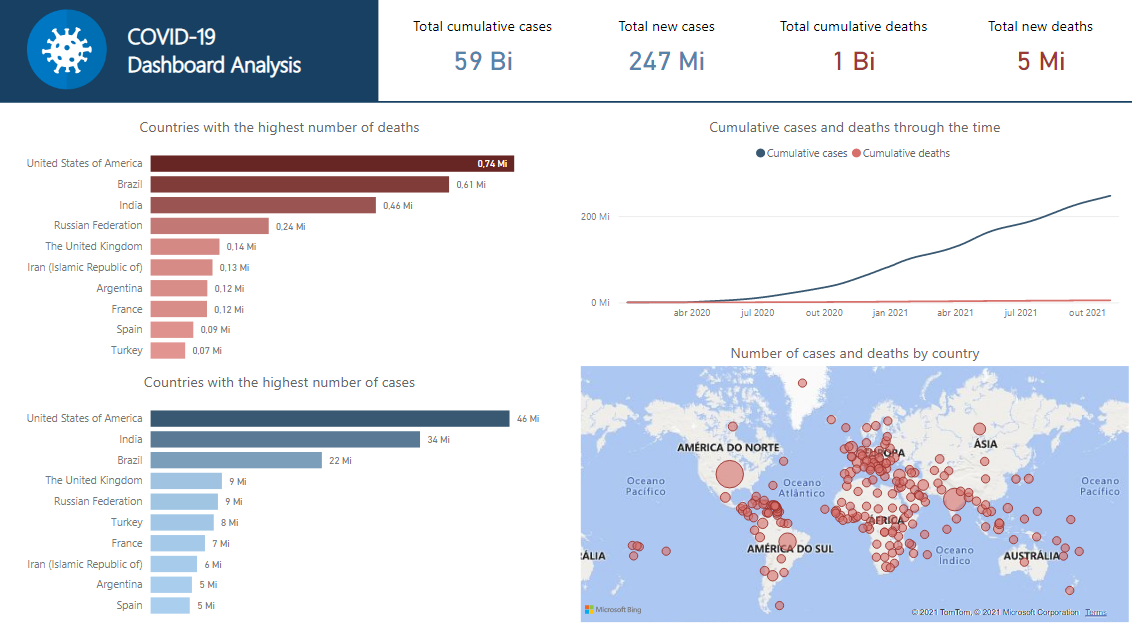

Layout of this report page (visuals, bound fields, positions):
{"tool":"powerbi","page":{"name":"Home","canvas":[1280,720],"ordinal":0},"visuals":[{"type":"shape","box":[0,98.9,1280,36.4],"z":0},{"type":"shape","box":[0,0,429.3,117.1],"z":1000},{"type":"map","title":"Number of cases and deaths by country","fields":{"Category":["WHO-COVID-19-global-data.Country"],"Size":["Sum(WHO-COVID-19-global-data.New_cases)"]},"box":[651.7,388.9,628.3,320],"z":2000},{"type":"lineChart","title":"Cumulative cases and deaths through the time","fields":{"Category":["WHO-COVID-19-global-data.Date_reported"],"Y":["Sum(WHO-COVID-19-global-data.Cumulative_cases)","Sum(WHO-COVID-19-global-data.Cumulative_deaths)"]},"box":[651.7,134,628.3,238],"z":3000},{"type":"barChart","title":"Countries with the highest number of cases","fields":{"Category":["WHO-COVID-19-global-data.Country"],"Y":["Medidas.Total de novos casos"]},"box":[14.3,421.5,604.9,287.5],"z":4000},{"type":"barChart","title":"Countries with the highest number of deaths","fields":{"Category":["WHO-COVID-19-global-data.Country"],"Y":["Medidas.Total de novas mortes"]},"box":[14.3,134,604.9,287.5],"z":5000},{"type":"card","title":"Total new cases","fields":{"Values":["Medidas.Total de novos casos"]},"box":[665.1,20.8,176.9,75.4],"z":6000},{"type":"card","title":"Total new deaths","fields":{"Values":["Medidas.Total de novas mortes"]},"box":[1086.2,20.8,176.9,75.4],"z":7000},{"type":"card","title":"Total cumulative cases","fields":{"Values":["Medidas.Total de casos acumulados"]},"box":[441,20.8,210.7,75.4],"z":8000},{"type":"card","title":"Total cumulative deaths","fields":{"Values":["Medidas.Total de mortes acumuladas"]},"box":[855.5,20.8,217.2,75.4],"z":9000},{"type":"image","box":[14.3,7.8,126.2,100.2],"z":10000},{"type":"textbox","box":[140.5,20.8,274.5,76.7],"z":11000}]}

Visuals, with their boxes in screenshot pixels (x1, y1, x2, y2), scaled from the page's 1280x720 canvas onto the 1132x627 screenshot:
shape: detection(0, 86, 1131, 118)
shape: detection(0, 0, 380, 102)
"Number of cases and deaths by country" map: detection(576, 339, 1131, 617)
"Cumulative cases and deaths through the time" lineChart: detection(576, 117, 1131, 324)
"Countries with the highest number of cases" barChart: detection(13, 367, 548, 617)
"Countries with the highest number of deaths" barChart: detection(13, 117, 548, 367)
"Total new cases" card: detection(588, 18, 745, 84)
"Total new deaths" card: detection(961, 18, 1117, 84)
"Total cumulative cases" card: detection(390, 18, 576, 84)
"Total cumulative deaths" card: detection(757, 18, 949, 84)
image: detection(13, 7, 124, 94)
textbox: detection(124, 18, 367, 85)
